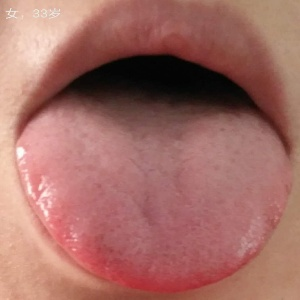st: (19, 110, 292, 295)
